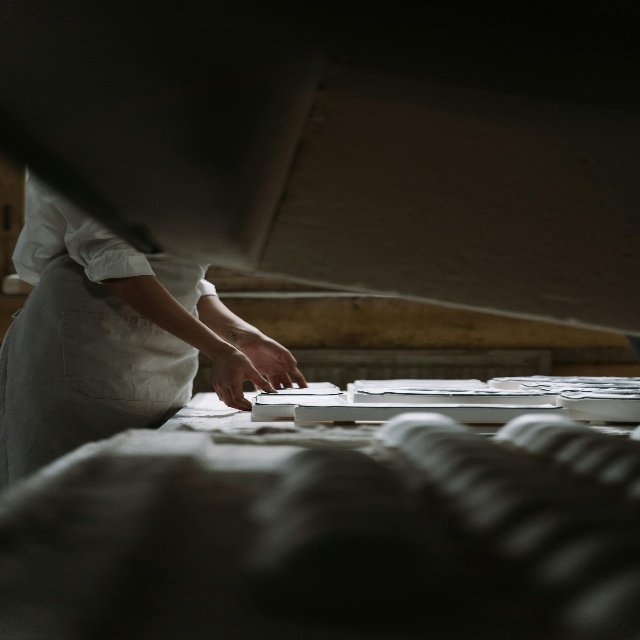Sin_guantes: (210, 340, 278, 411), (239, 335, 307, 390)
